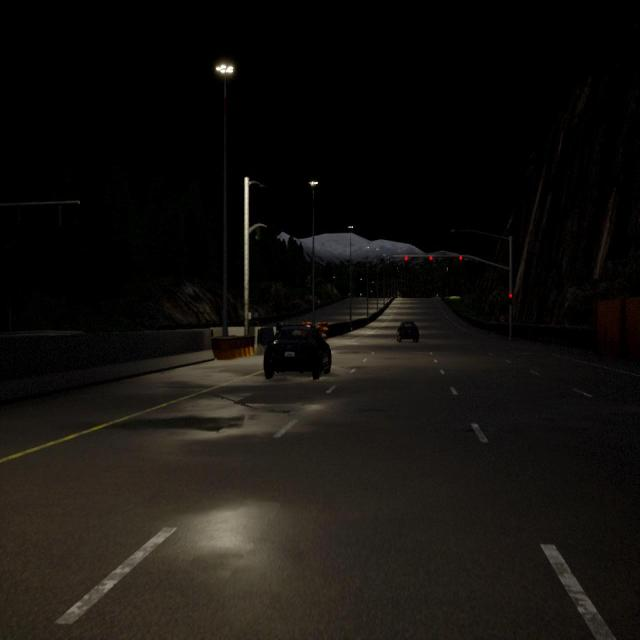Traffic_Signs: (318, 301, 320, 303)
Vehicle: (264, 324, 332, 378), (396, 320, 419, 343)
traffic_light: (59, 204, 65, 227), (19, 204, 24, 224), (255, 227, 260, 240), (404, 256, 408, 267), (459, 256, 463, 266), (509, 293, 512, 305), (429, 256, 432, 267)
